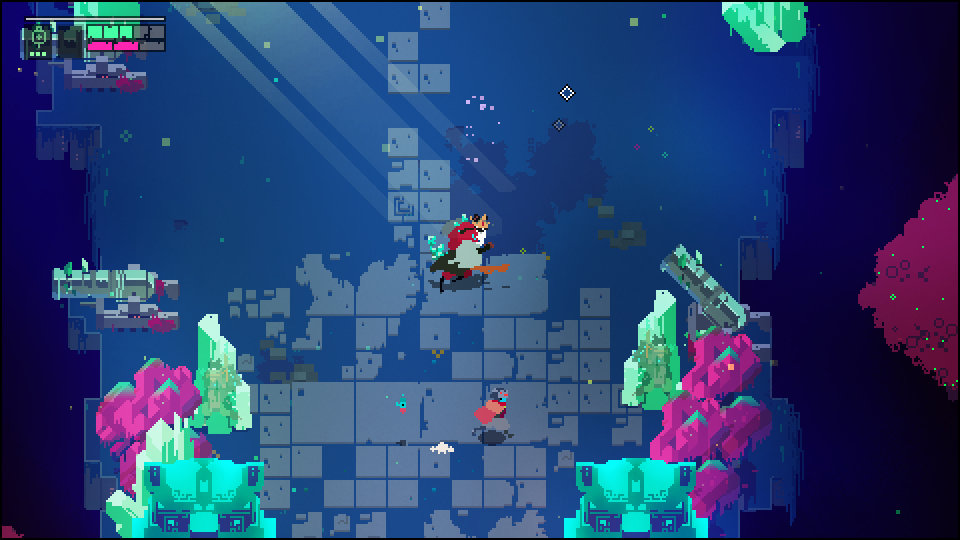hanged_man: (425, 209, 508, 286)
player: (474, 388, 513, 435)
